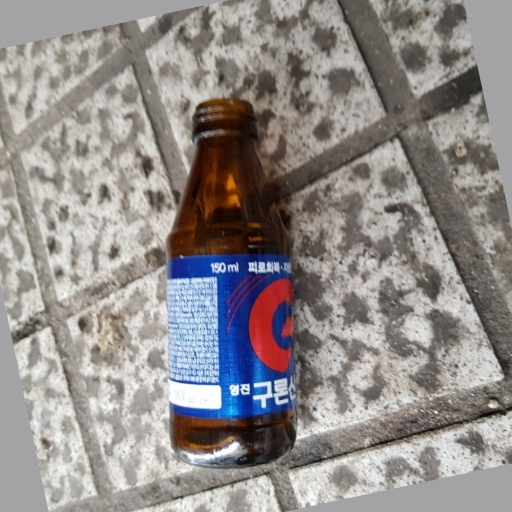Glass_3: (161, 98, 300, 473)
